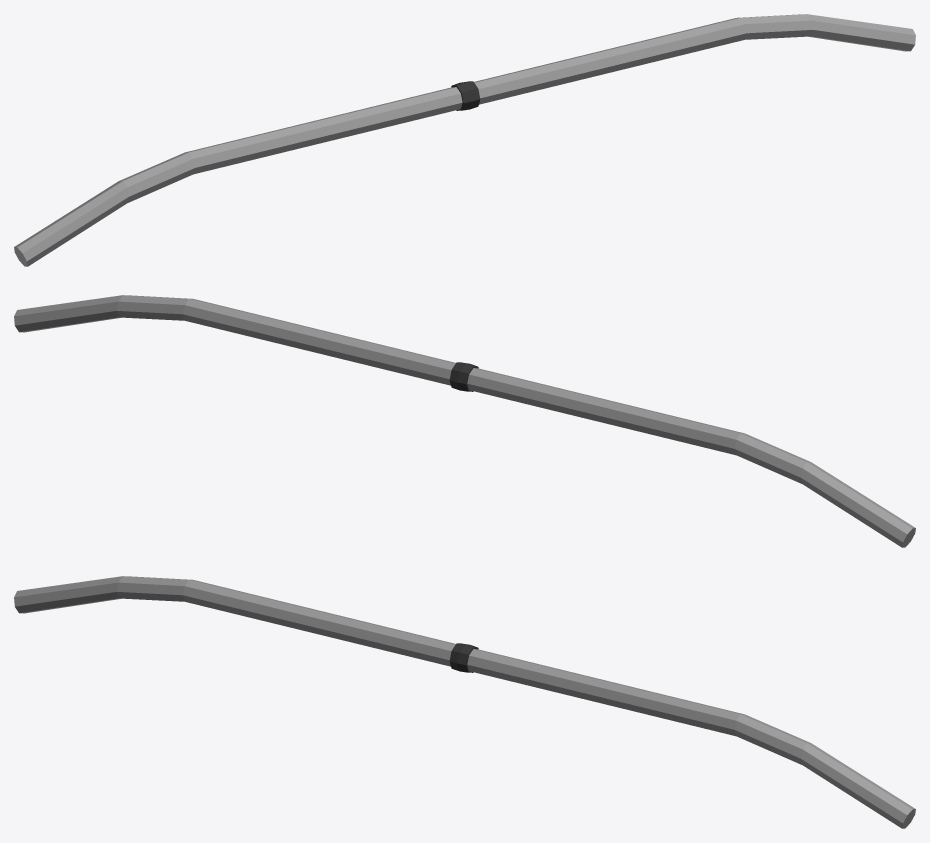
The model's file is pulldown-ac-1.glb.
3 renders of one model, top to bottom at view 1: azimuth 30°, elevation 25°; view 2: azimuth 150°, elevation 25°; view 3: azimuth 330°, elevation 25°, orthographic.
Visible parts, largest first — view 1: PullDown_Ac_1; view 2: PullDown_Ac_1; view 3: PullDown_Ac_1.
Part boxes in pixels (x1,y1,x2,y2): PullDown_Ac_1: (14,14,915,266); PullDown_Ac_1: (14,295,915,547); PullDown_Ac_1: (14,576,915,828).
Bounding box in the file's own units: 131 × 10.66 × 3.75.
1 material, 1 textured.
